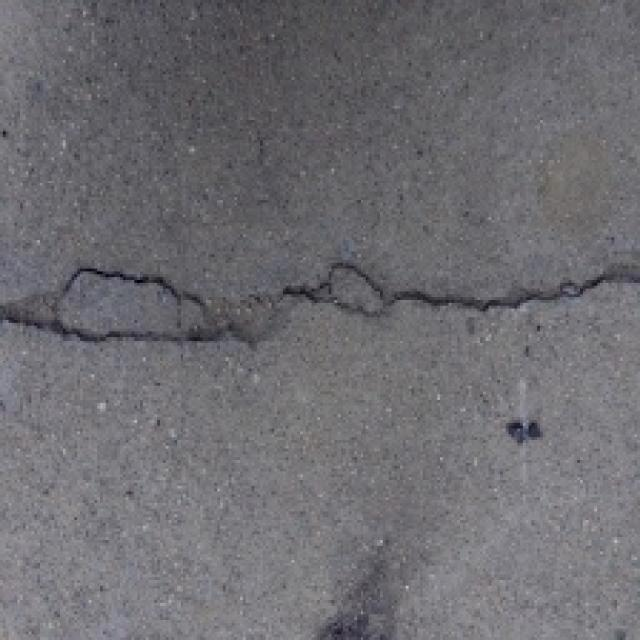crack: (10, 232, 640, 378)
